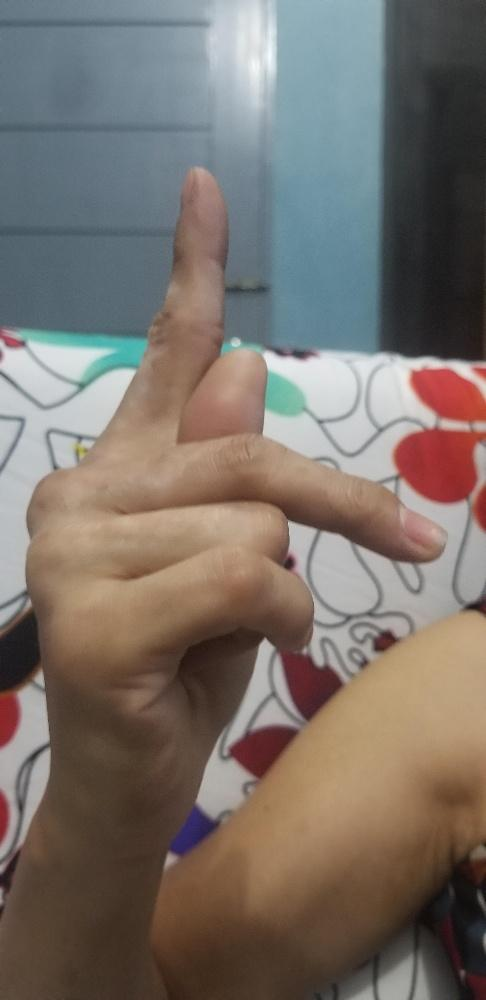k: (24, 163, 449, 841)
